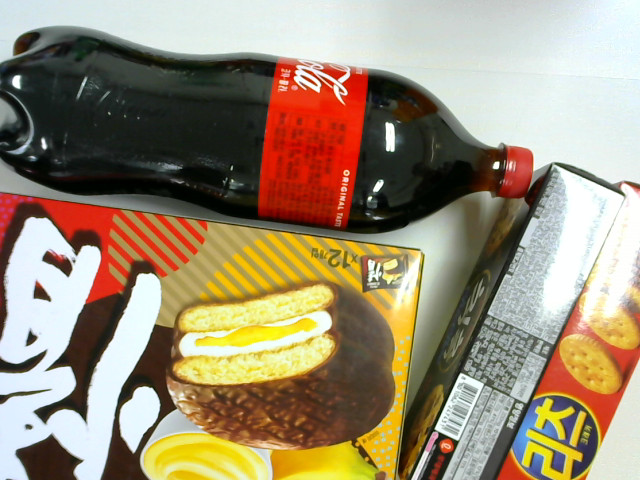Chicchok_Original_2400: (397, 170, 612, 480)
Choco_Pie_Banana: (1, 220, 422, 477)
Coca_Cola_1.5L: (1, 29, 562, 219)
Ritz_Cracker: (509, 150, 638, 480)
